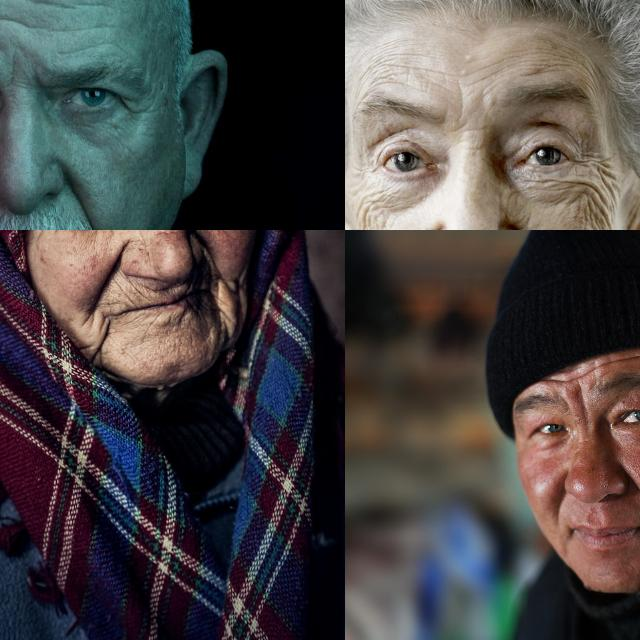crows_feet: (580, 152, 616, 188), (120, 89, 152, 121)
forehead: (515, 49, 599, 80), (357, 52, 409, 92), (546, 371, 604, 389), (0, 0, 77, 11), (33, 19, 83, 35), (604, 352, 640, 366), (83, 0, 111, 14), (0, 6, 17, 29)
frown_line: (452, 85, 470, 131), (574, 394, 596, 431), (5, 53, 19, 89)
gummy_smile: (84, 258, 128, 306), (66, 178, 96, 228), (550, 488, 572, 526), (629, 471, 640, 512)
masseter: (222, 278, 248, 342), (594, 206, 615, 230)
sad_smile: (88, 320, 110, 364)
smoker_lines: (136, 278, 172, 300)
